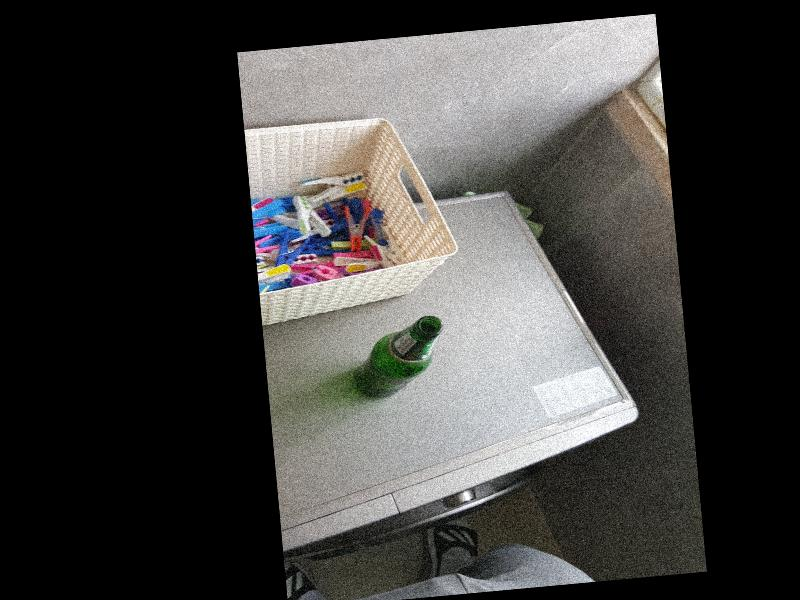Beer: (350, 315, 449, 401)
